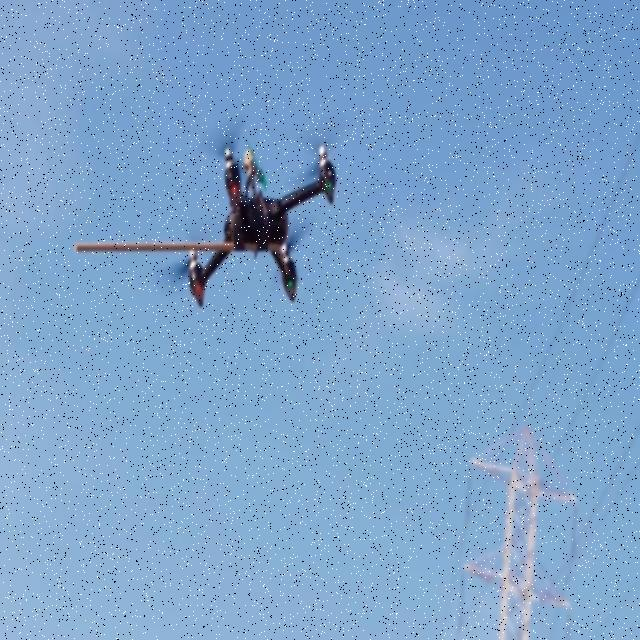UAV: (178, 134, 336, 310)
